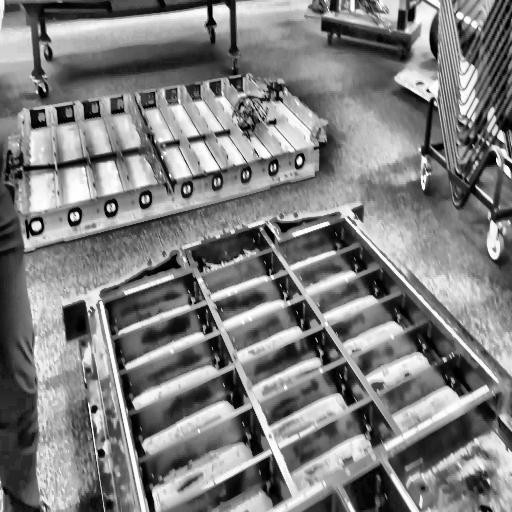b_casing: (83, 202, 512, 512)
